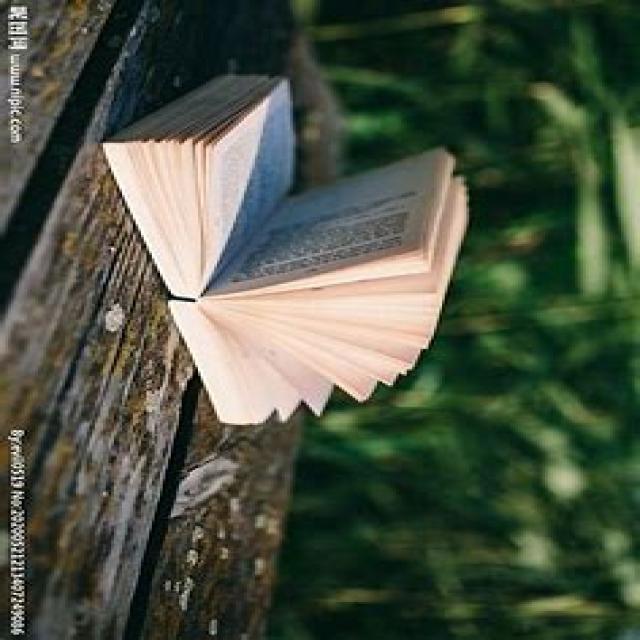pen: (76, 44, 499, 452)
